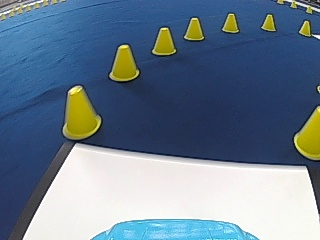cone: (61, 84, 101, 139), (294, 106, 319, 159), (109, 44, 139, 81), (151, 26, 176, 55), (184, 16, 204, 41), (222, 12, 239, 33), (261, 13, 276, 31), (299, 20, 311, 36)
